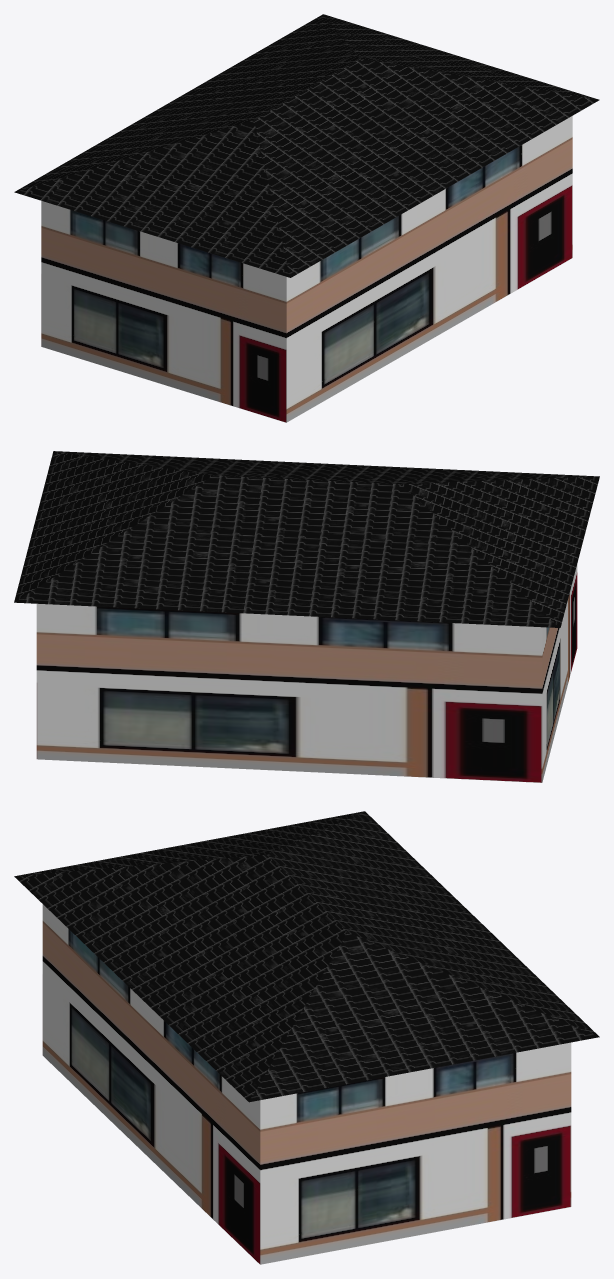
The picture shows the model from 3 angles, top to bottom: view 1: azimuth 30°, elevation 25°; view 2: azimuth 150°, elevation 25°; view 3: azimuth 270°, elevation 25°; orthographic projection. The views are drawn at different scales.
Parts seen in each view (by area): view 1: CityEngineMaterial_5_m, CityEngineMaterial_14_m; view 2: CityEngineMaterial_14_m, CityEngineMaterial_5_m; view 3: CityEngineMaterial_14_m, CityEngineMaterial_5_m.
Part boxes in pixels (box(x1,y1,x2,y2)): CityEngineMaterial_5_m: box(41, 116, 572, 422); CityEngineMaterial_14_m: box(14, 14, 599, 277); CityEngineMaterial_14_m: box(14, 451, 599, 627); CityEngineMaterial_5_m: box(36, 564, 577, 782); CityEngineMaterial_14_m: box(14, 811, 599, 1102); CityEngineMaterial_5_m: box(42, 904, 571, 1264).
Size of the model in its own units: 29.64 by 11.29 by 25.21.
